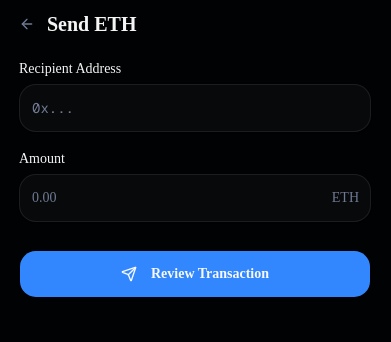
Test: SendPage › shows error for missing amount
The width and height of the screenshot is (391, 342).
Step 1. Type "0x70997970C51812dc3A010C7d01b50e0d17dc79C8" into the field with placeholder "0x..." → (195, 108), box [19,84,371,132]
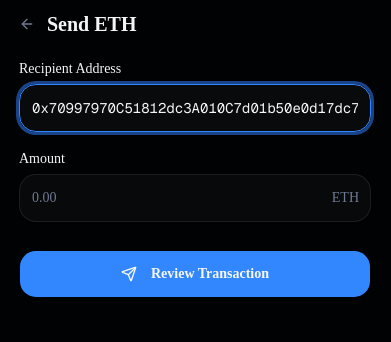
Step 2. Click the button "Review Transaction" → (195, 274), box [19,250,371,298]
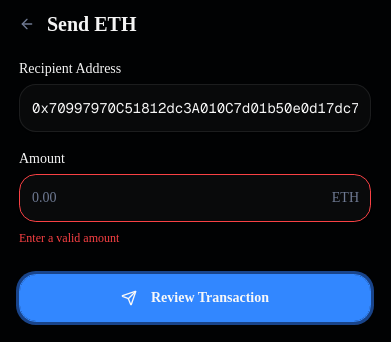
Result: the text "Enter a valid amount" is shown at [19,231,119,245]
